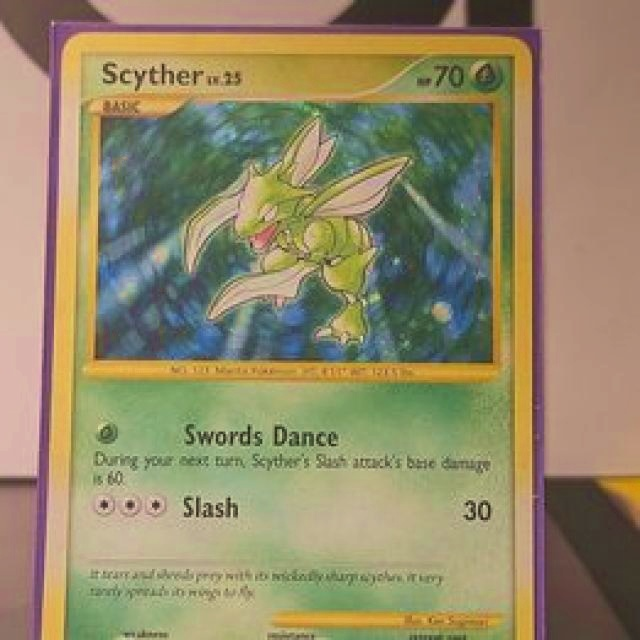card: (38, 32, 537, 640)
